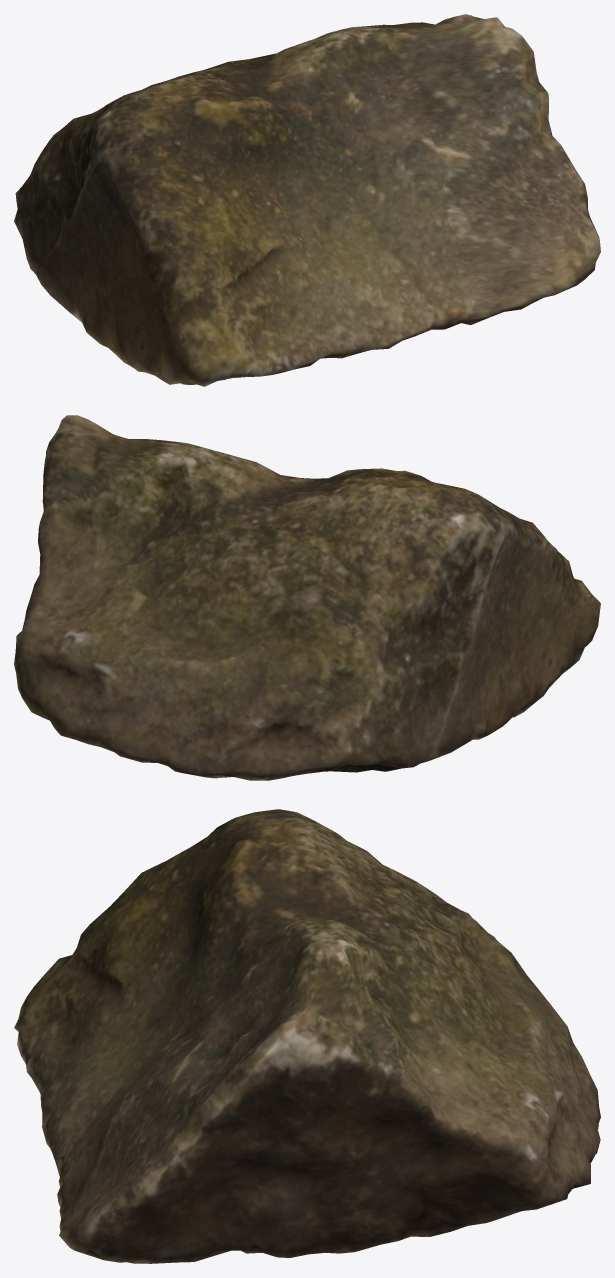
The model's file is rock_03.obj.
The picture shows the model from 3 angles, top to bottom: view 1: azimuth 30°, elevation 25°; view 2: azimuth 150°, elevation 25°; view 3: azimuth 270°, elevation 25°; orthographic projection. The views are drawn at different scales.
Parts seen in each view (by area): view 1: rock_moss_set_01_rock03; view 2: rock_moss_set_01_rock03; view 3: rock_moss_set_01_rock03.
Part boxes in pixels (x1=…): rock_moss_set_01_rock03: x1=14, y1=14, x2=600, y2=386; rock_moss_set_01_rock03: x1=14, y1=415, x2=600, y2=780; rock_moss_set_01_rock03: x1=14, y1=809, x2=600, y2=1263.
Bounding box in the file's own units: 2.11 × 1.1 × 2.08.
1 material, 1 textured.
